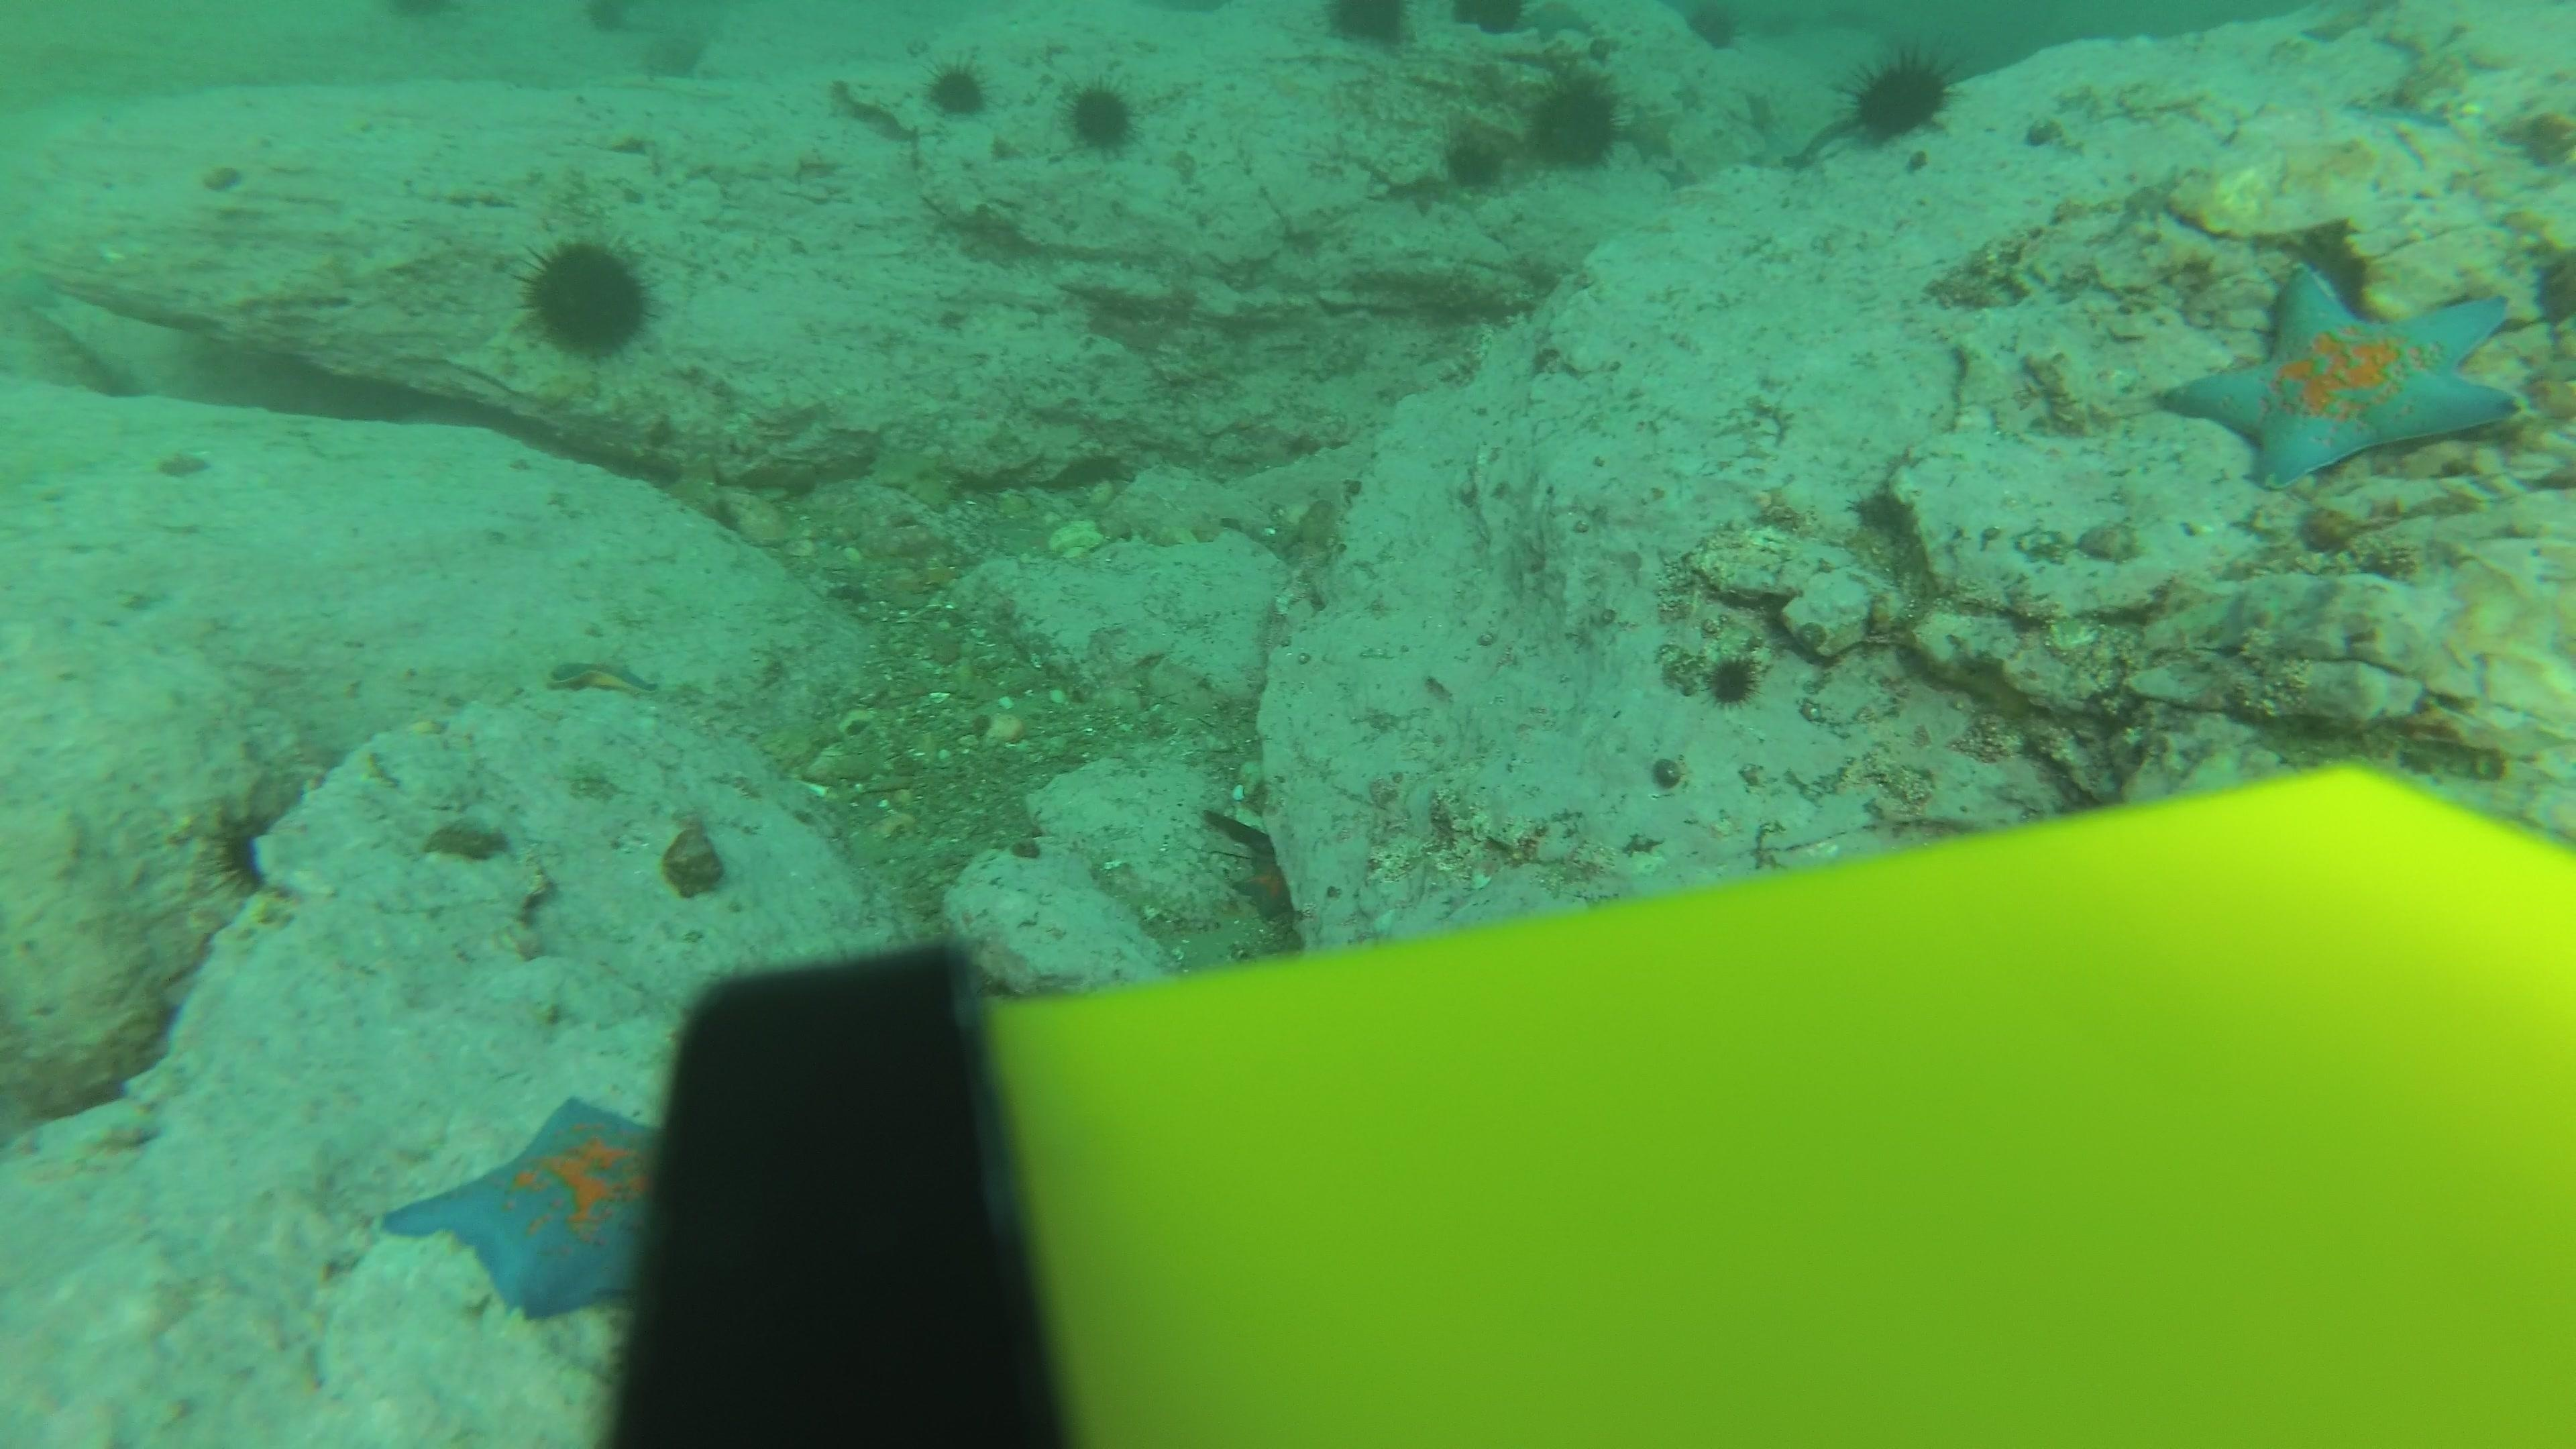echinus: (517, 232, 658, 363), (1835, 44, 1962, 150), (1522, 69, 1629, 175), (209, 803, 311, 904), (1058, 74, 1145, 157), (1318, 0, 1419, 55), (1437, 124, 1511, 195), (918, 53, 994, 122), (1702, 648, 1766, 709), (1681, 2, 1752, 55)
holothurian: (870, 441, 957, 511)
starfish: (2153, 258, 2526, 492), (380, 1092, 678, 1327), (545, 648, 662, 702), (1226, 847, 1304, 927), (1619, 103, 1688, 168), (1514, 0, 1603, 44)
